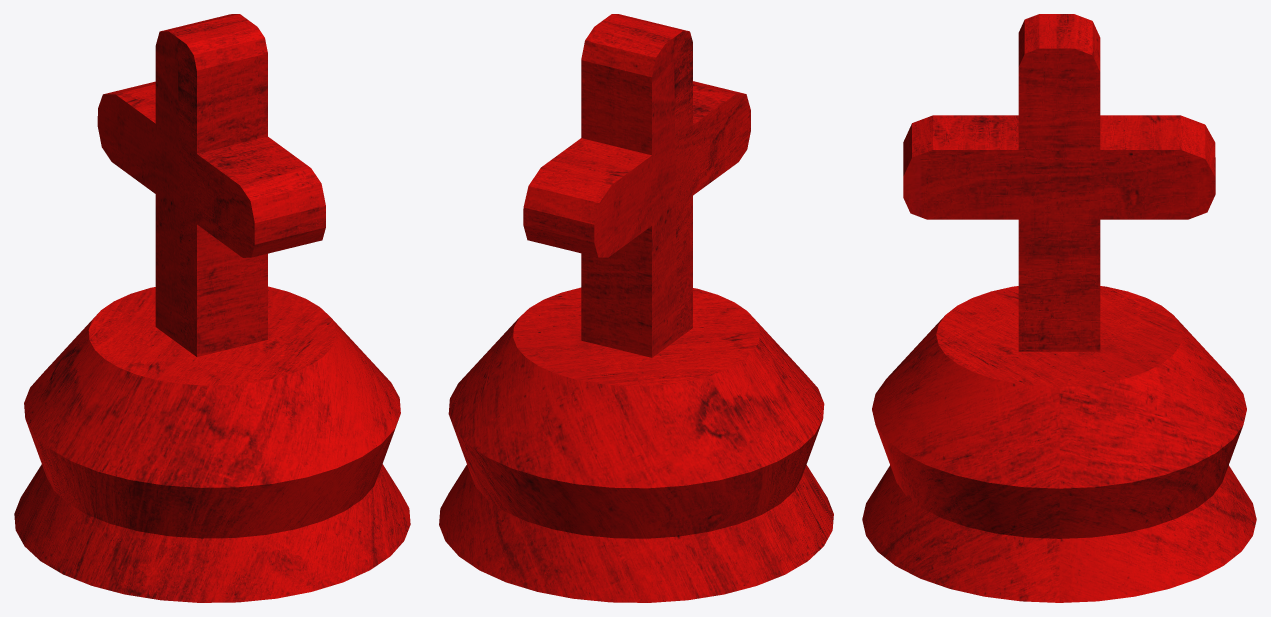
Rendered from saude.fbx.
3 views of the same model, side by side, from view 1: azimuth 30°, elevation 25°; view 2: azimuth 150°, elevation 25°; view 3: azimuth 270°, elevation 25° (orthographic).
Visible parts, largest first — view 1: Circle; view 2: Circle; view 3: Circle.
Part boxes in pixels (bbox=[...]): Circle: bbox=[14, 14, 410, 602]; Circle: bbox=[439, 14, 833, 602]; Circle: bbox=[862, 14, 1256, 602].
Size of the model in its own units: 171 by 234 by 171.
Materials: 1 (1 with a texture image).
